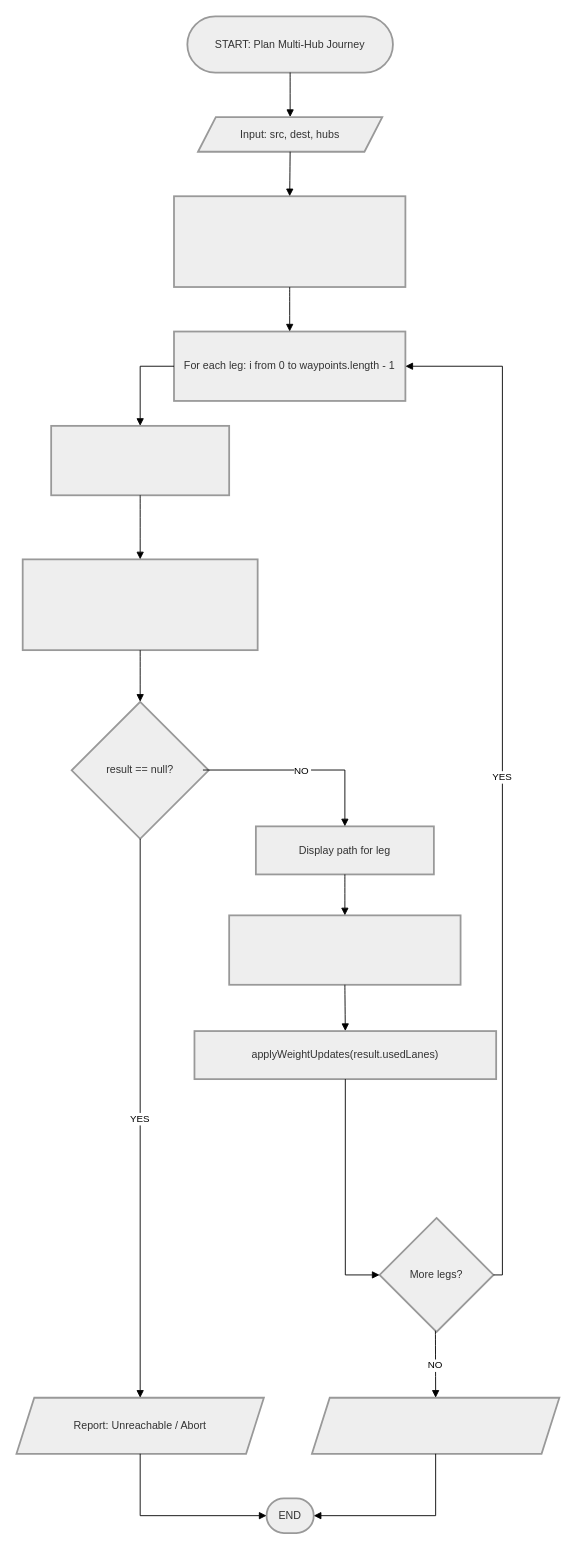
Some shapes in this 575 by 1549 pixel diagram are drawn without their labels. Each missing label, with the centre of its shape:
"from = waypoints[i] to = waypoints[i+1]" goes at pixel 140 460.
"Report: Journey Complete / Total Cost" goes at pixel 435 1425.
"result = computeShortestPath(from, to)" goes at pixel 139 604.
"totalCost += result.totalCost" goes at pixel 344 949.
"waypoints = src + hubs + dest totalCost = 0.0" goes at pixel 289 241.
